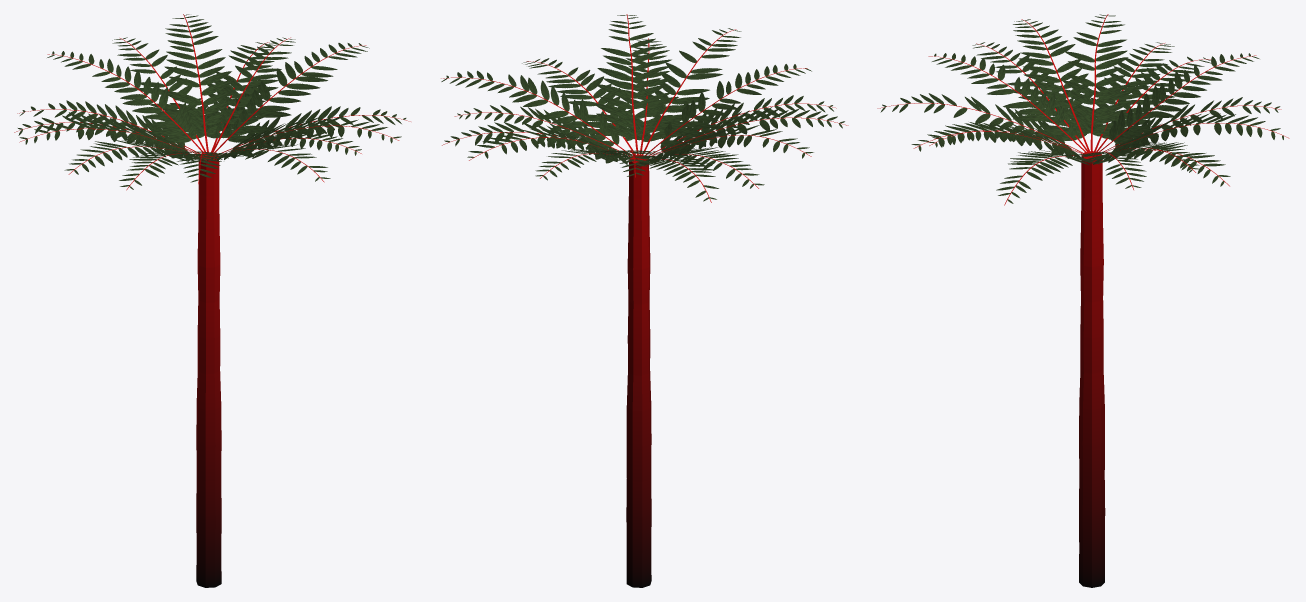
Rendered from tree_fern_v02_LOD1.fbx.
3 renders of one model, left to right at view 1: azimuth 30°, elevation 25°; view 2: azimuth 150°, elevation 25°; view 3: azimuth 270°, elevation 25°, orthographic.
Parts seen in each view (by area): view 1: tree_fern_v02_LOD1; view 2: tree_fern_v02_LOD1; view 3: tree_fern_v02_LOD1.
Part boxes in pixels (bbox=[...]): tree_fern_v02_LOD1: bbox=[14, 14, 410, 587]; tree_fern_v02_LOD1: bbox=[441, 14, 848, 587]; tree_fern_v02_LOD1: bbox=[877, 14, 1289, 587].
Bounding box in the file's own units: 337 × 436 × 334.
